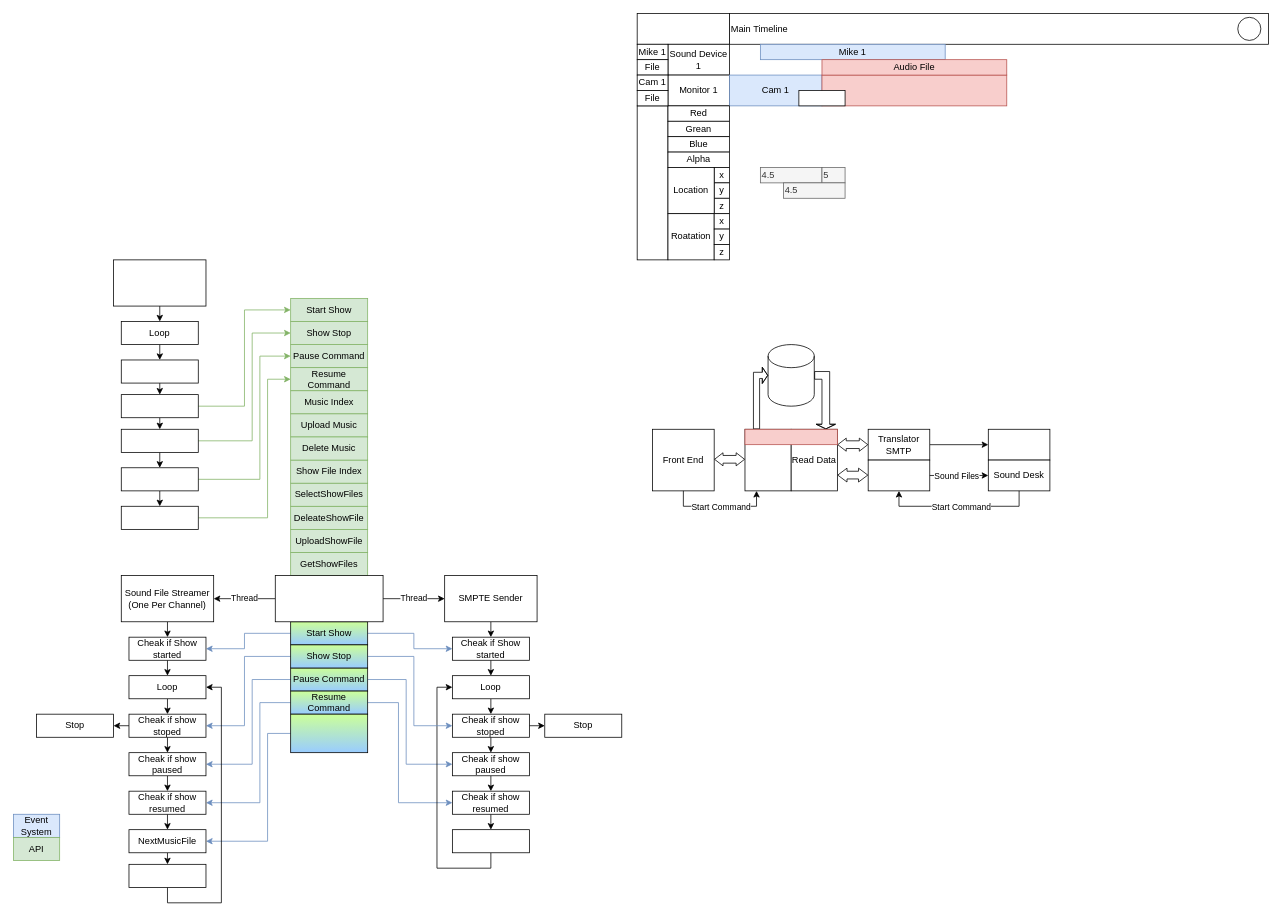
Some shapes in this 1282 by 922 pixel diagram are drawn without their labels. The shapes that lost their labels are listed below. From the top down, each one's centre as x and y in pixels, then its label:
At point 683,28: "Device".
At point 1249,28: "GO".
At point 821,98: "Fade".
At point 914,90: "Video File".
At point 652,182: "Light 1".
At point 159,282: "Midi Listerner".
At point 159,371: "Cheak For Midi Input".
At point 790,375: "Data".
At point 159,406: "If Start Show".
At point 159,440: "If Stop Show".
At point 790,437: "FireLight".
At point 1019,444: "Lighting Desk".
At point 159,479: "If Pause Show".
At point 767,460: "Create Data".
At point 898,475: "Translator MIDI".
At point 159,517: "If Resume Show".
At point 329,598: "Fast API".
At point 329,733: "NextMusicFile (One For Each Channel)".
At point 490,841: "Send out SMPTE Codes".
At point 167,875: "Play Next Music file".
